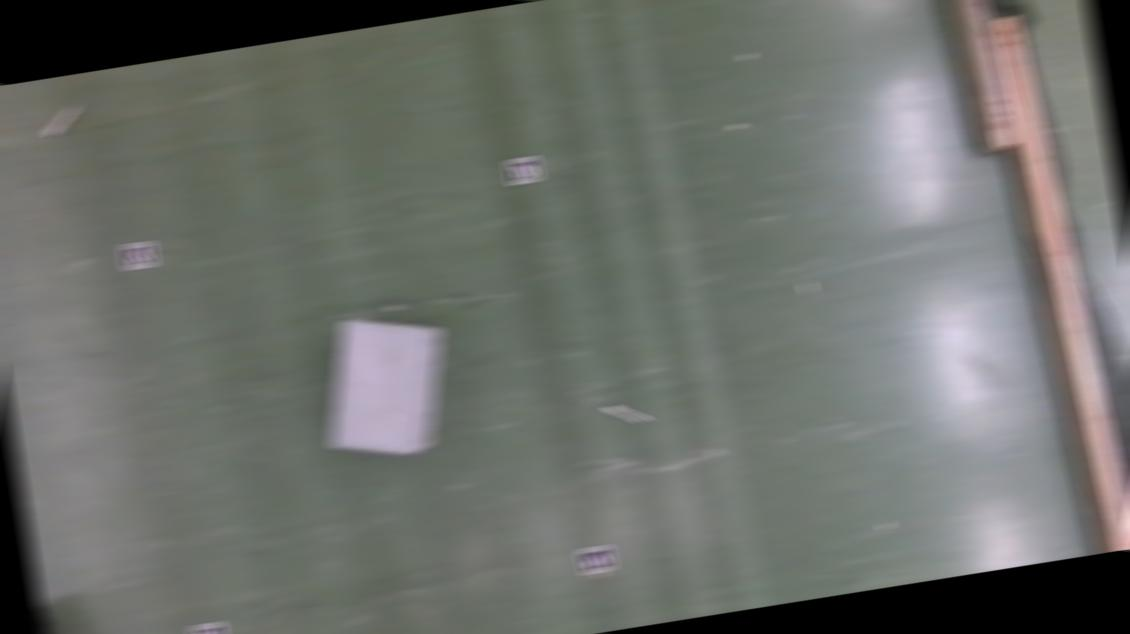probes: (43, 106, 82, 140), (607, 400, 648, 428)
rako: (310, 306, 462, 469), (36, 602, 95, 634)
